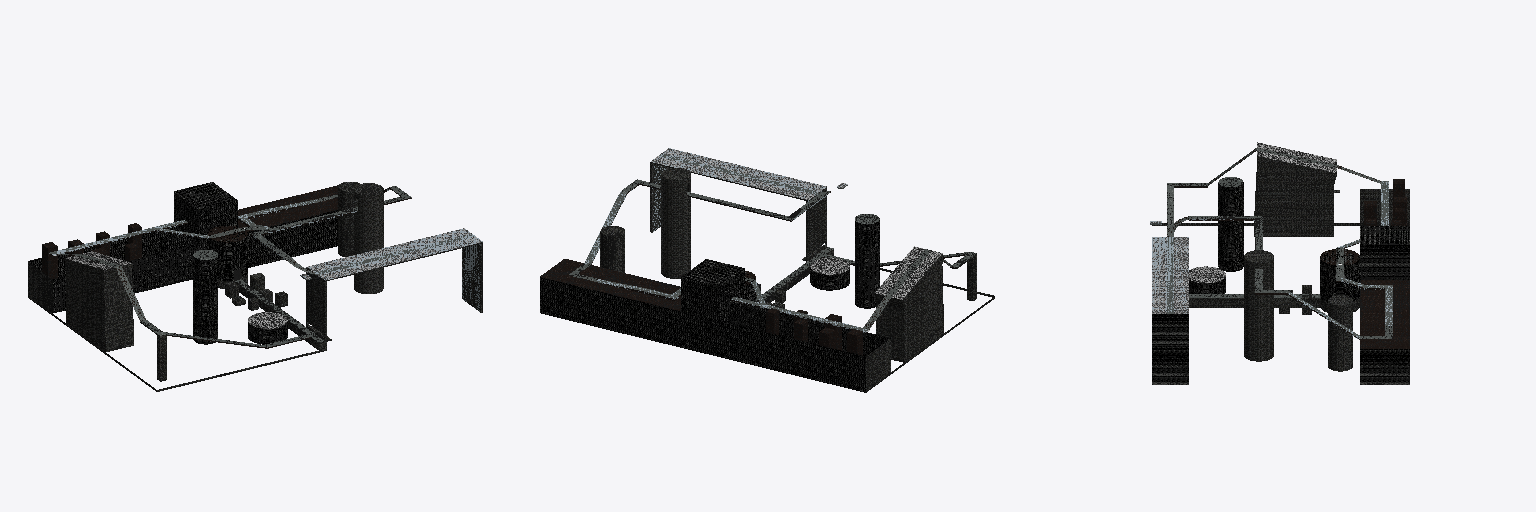
The picture shows the model from 3 angles: view 1: azimuth 30°, elevation 25°; view 2: azimuth 150°, elevation 25°; view 3: azimuth 270°, elevation 25°; orthographic projection.
Visible parts, largest first — view 1: Mesh1 Model, Mesh3 Model, Mesh5 Model, Mesh16 Model; view 2: Mesh1 Model, Mesh3 Model, Mesh5 Model, Mesh16 Model; view 3: Mesh1 Model, Mesh3 Model, Mesh16 Model, Mesh5 Model.
Part boxes in pixels (x1,y1,x2,y2): Mesh1 Model: (28,182,482,391); Mesh3 Model: (193,250,217,344); Mesh5 Model: (248,312,287,344); Mesh16 Model: (338,182,359,256); Mesh1 Model: (540,148,994,392); Mesh3 Model: (855,214,879,308); Mesh5 Model: (810,258,849,290); Mesh16 Model: (600,226,624,272); Mesh1 Model: (1152,142,1409,384); Mesh3 Model: (1218,177,1243,271); Mesh16 Model: (1328,295,1352,371); Mesh5 Model: (1189,266,1225,293).
Bounding box in the file's own units: 150 × 43.39 × 104.
Materials: 8 (6 with a texture image).